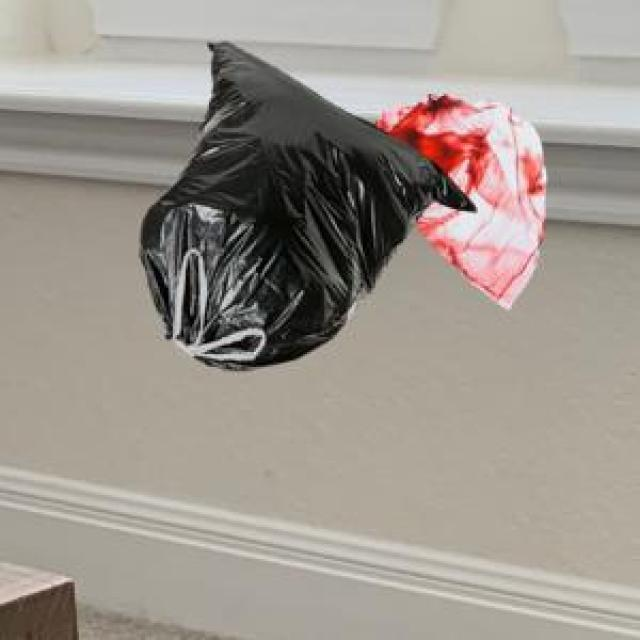miscellaneous trash: (137, 38, 472, 367)
